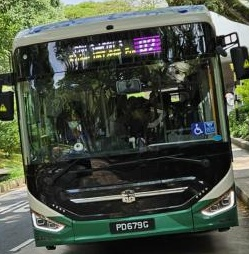bus: (133, 34, 162, 55)
